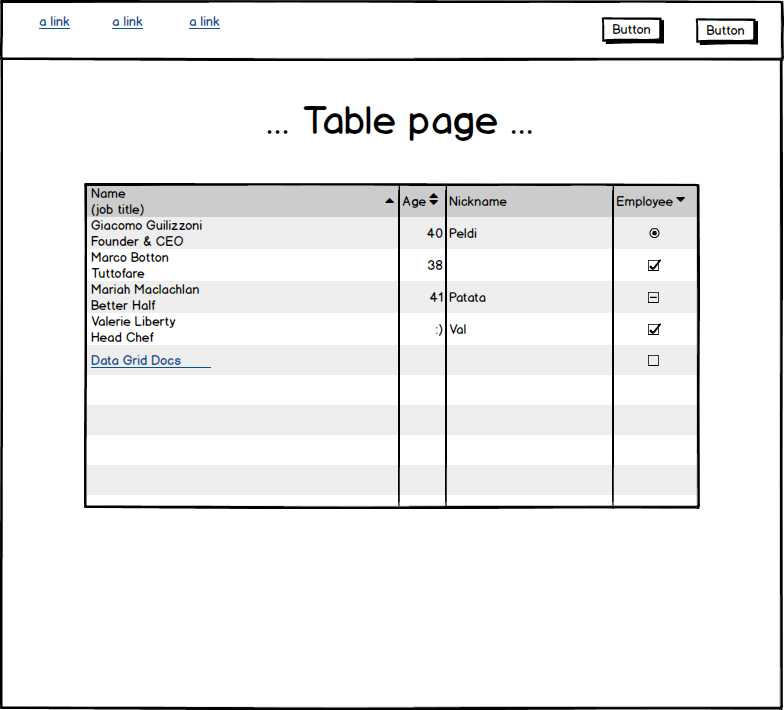button: (597, 12, 672, 50), (692, 14, 761, 48)
h1: (258, 96, 547, 152)
navlink: (185, 10, 228, 34), (34, 12, 74, 36), (107, 12, 147, 34)
table: (77, 180, 708, 515)
